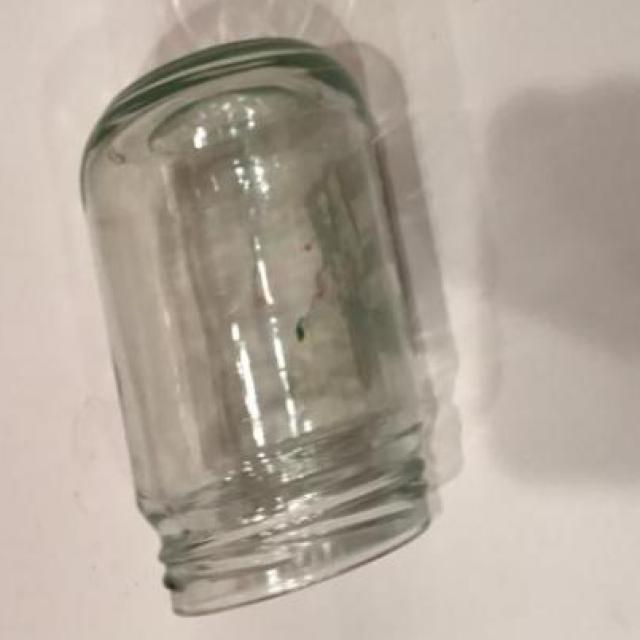kaca: (78, 41, 432, 621)
